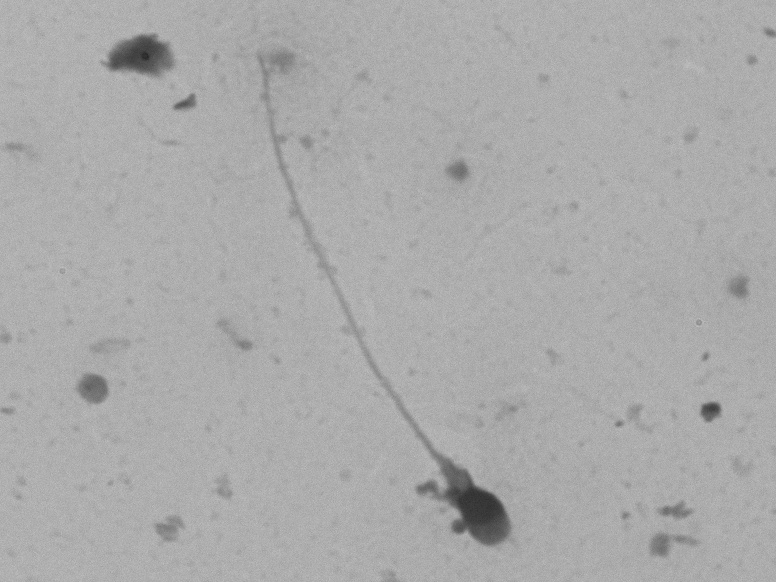Abnormal: (236, 60, 574, 561)
